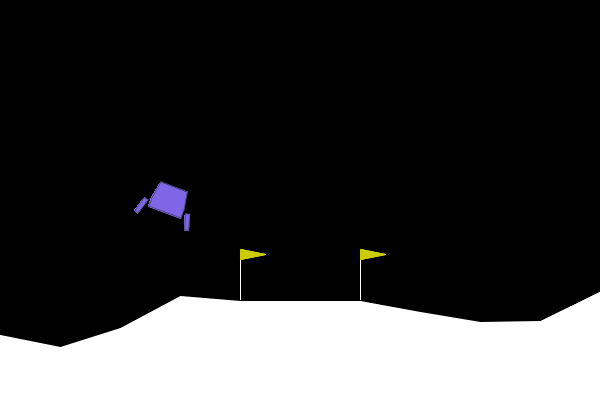lander: (132, 175, 203, 233)
